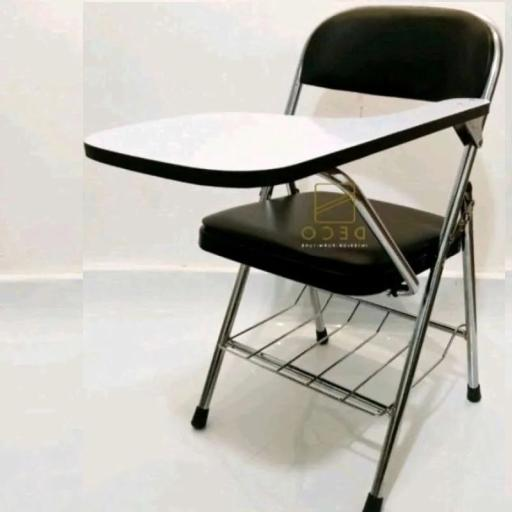kursi: (83, 2, 505, 512)
